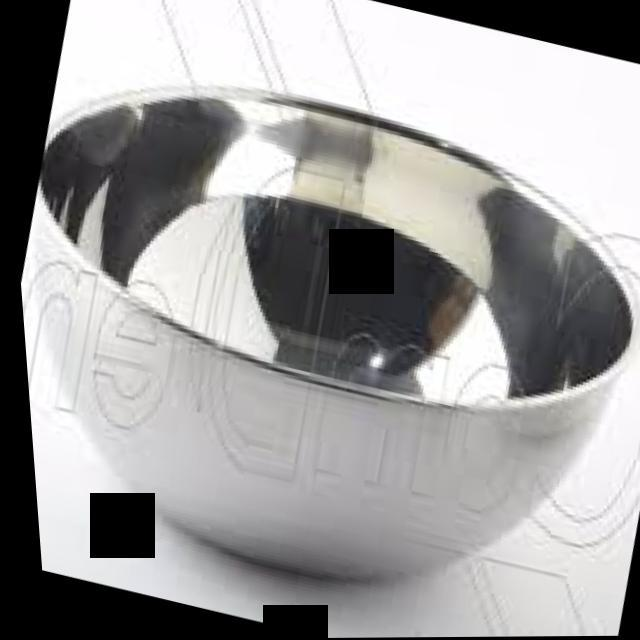Sponge Bowl: (1, 21, 640, 640)
